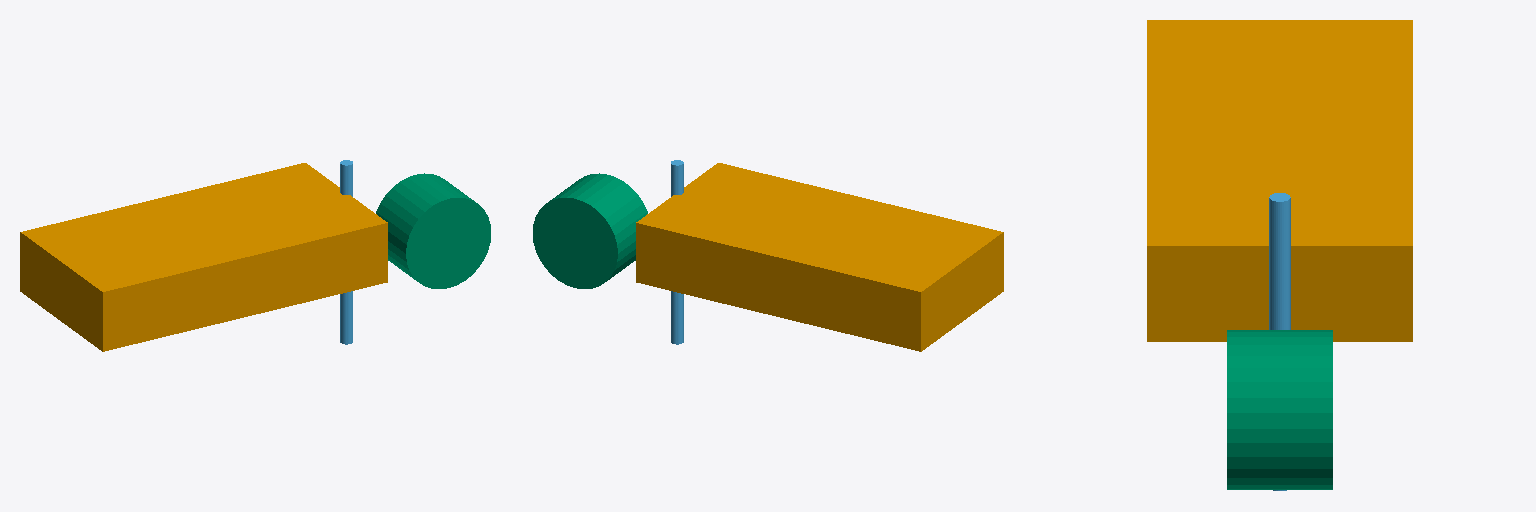
The robot description file, URDF, robot "f1_suspension":
<?xml version="1.0"?>
<robot name="f1_suspension">

  <!-- ===================== -->
  <!--  Body Link            -->
  <!-- ===================== -->
  <link name="body">
    <inertial>
        <mass value="1.0"/>
        <inertia ixx="1.0" ixy="0.0" ixz="0.0" iyy="1.0" iyz="0.0" izz="1.0"/>
    </inertial>
    <visual>
      <geometry>
        <box size="1 0.5 0.2"/>
      </geometry>
      <origin xyz="0 0 0"/>
    </visual>
    <collision>
        <geometry>
        <box size="1 0.5 0.2"/>
      </geometry>
      <origin xyz="0 0 0"/>
    </collision>
  </link>


  <!-- ===================== -->
  <!--  Suspension Link      -->
  <!-- ===================== -->
  <link name="suspension">
    <visual>
      <geometry>
        <cylinder length="0.6" radius="0.02"/>
      </geometry>
      <origin xyz="0 0 0"/>
    </visual>
  </link>


  <!-- ===================== -->
  <!--  Wheel Link           -->
  <!-- ===================== -->
  <link name="wheel">
    <visual>
      <geometry>
        <cylinder length="0.2" radius="0.15"/>
      </geometry>
      <origin xyz="0 0 0" rpy="1.5708 0 0"/>
    </visual>
    <collision>
        <geometry>
        <cylinder length="0.2" radius="0.15"/>
      </geometry>
      <origin xyz="0 0 0" rpy="1.5708 0 0"/>
    </collision>
  </link>


  <!-- ===================== -->
  <!--  Joint: Body -> Suspension -->
  <!-- ===================== -->
  <joint name="joint_body_sus" type="revolute">
    <parent link="body"/>
    <child link="suspension"/>

    <origin xyz="0.5 0 -0.1"/>

    <axis xyz="1 0 0"/>

    <limit lower="-0.5" upper="0.5" effort="0" velocity="0"/>
  </joint>


  <!-- ===================== -->
  <!--  Joint: Suspension -> Wheel -->
  <!-- ===================== -->
  <joint name="joint_sus_wheel" type="revolute">
    <parent link="suspension"/>
    <child link="wheel"/>


    <origin xyz="0.3 0 0"/>  

    <axis xyz="1 0 0"/>

    <limit lower="-1000" upper="1000" effort="0" velocity="0"/>
  </joint>

</robot>

--- What the picture shows (computed from the rendered views, not written in the file) ---
Views: 3 orthographic renders of the robot side by side, from view 1: azimuth 30°, elevation 25°; view 2: azimuth 150°, elevation 25°; view 3: azimuth 270°, elevation 25°.
Model f1_suspension with 3 links and 2 joints (2 revolute), rooted at body, posed every joint at zero.
Visible links, largest first — view 1: body, wheel, suspension; view 2: body, wheel, suspension; view 3: body, wheel, suspension.
Link boxes in pixels (x1=…): body: x1=20, y1=163, x2=387, y2=351; wheel: x1=376, y1=173, x2=490, y2=288; suspension: x1=340, y1=160, x2=352, y2=344; body: x1=636, y1=163, x2=1003, y2=351; wheel: x1=533, y1=173, x2=647, y2=288; suspension: x1=671, y1=160, x2=683, y2=344; body: x1=1147, y1=20, x2=1412, y2=341; wheel: x1=1227, y1=330, x2=1332, y2=489; suspension: x1=1269, y1=193, x2=1290, y2=490.
Bounding box of the posed robot: 1.45 × 0.5 × 0.6 m (x, y, z).
Geometry: primitives only (box / cylinder / sphere), no mesh files.